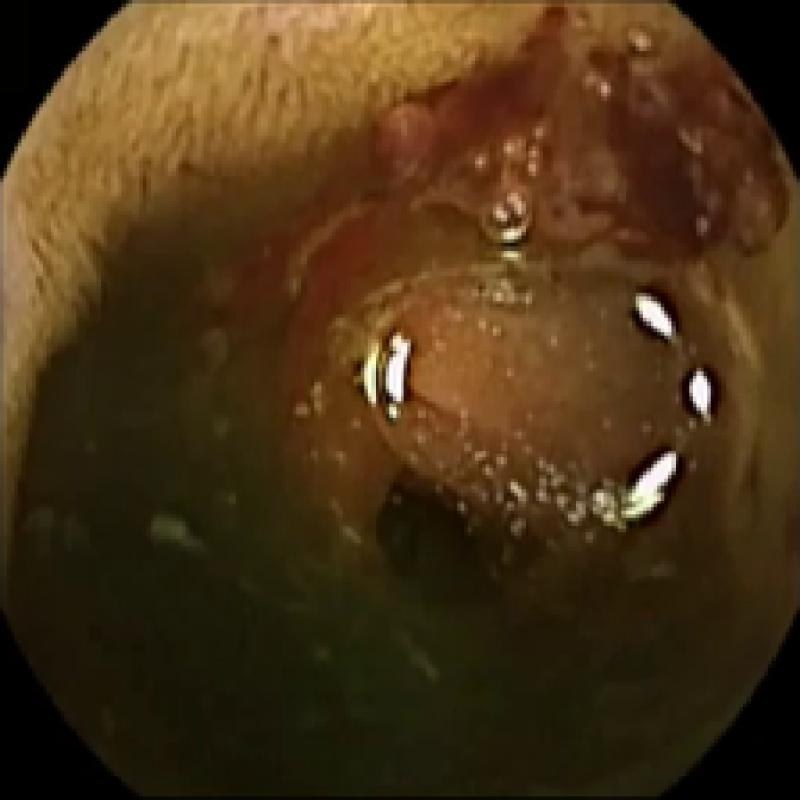bleeding: (243, 0, 796, 382), (373, 461, 546, 619)
